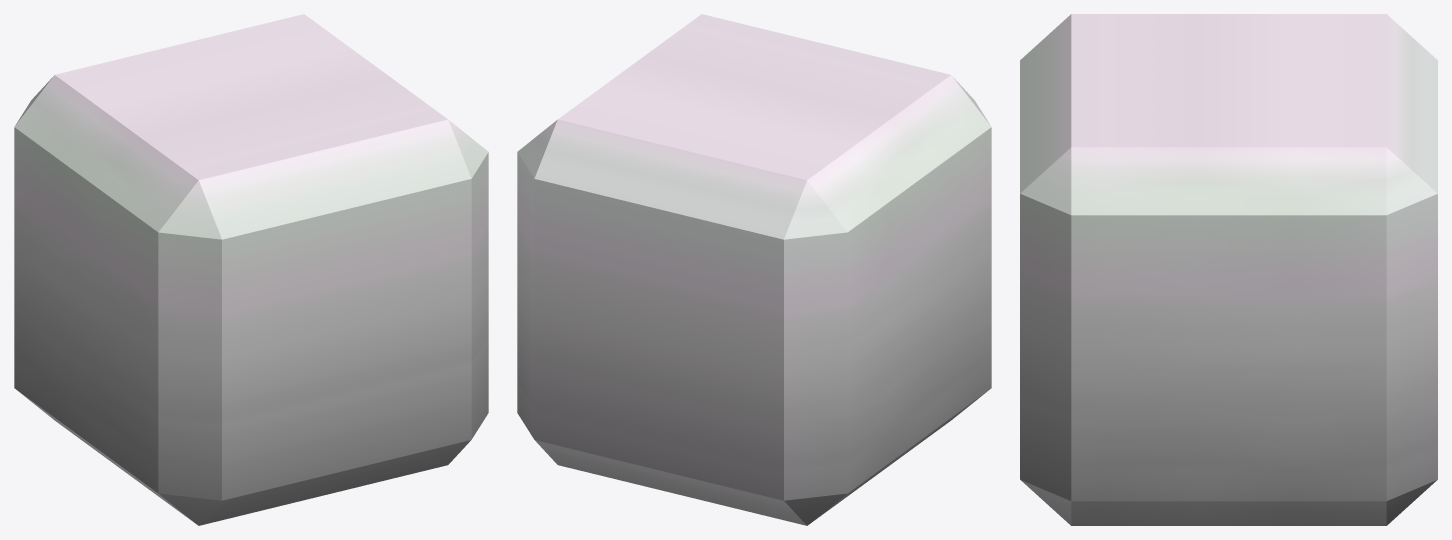
Rendered from c4701990-97db-43fa-961c-da69cea5bdf4.glb.
The picture shows the model from 3 angles, left to right: view 1: azimuth 30°, elevation 25°; view 2: azimuth 150°, elevation 25°; view 3: azimuth 270°, elevation 25°; orthographic projection. The views are drawn at different scales.
Parts seen in each view (by area): view 1: CyberPunkCubeShapeA.001; view 2: CyberPunkCubeShapeA.001; view 3: CyberPunkCubeShapeA.001.
Boxes of the visible parts, left/top/right/bottom form: CyberPunkCubeShapeA.001: left=14, top=14, right=488, bottom=525; CyberPunkCubeShapeA.001: left=517, top=14, right=991, bottom=525; CyberPunkCubeShapeA.001: left=1020, top=14, right=1437, bottom=525.
Size of what is drawn, in the model's own units: 0.7462 by 0.7462 by 0.7462.
Materials: 1 (1 with a texture image).
